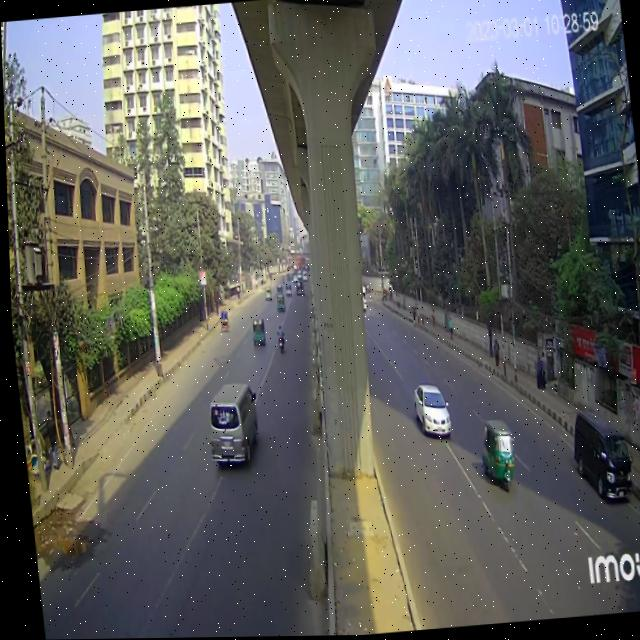cng: (472, 408, 519, 494), (248, 316, 265, 352), (273, 290, 285, 314)
